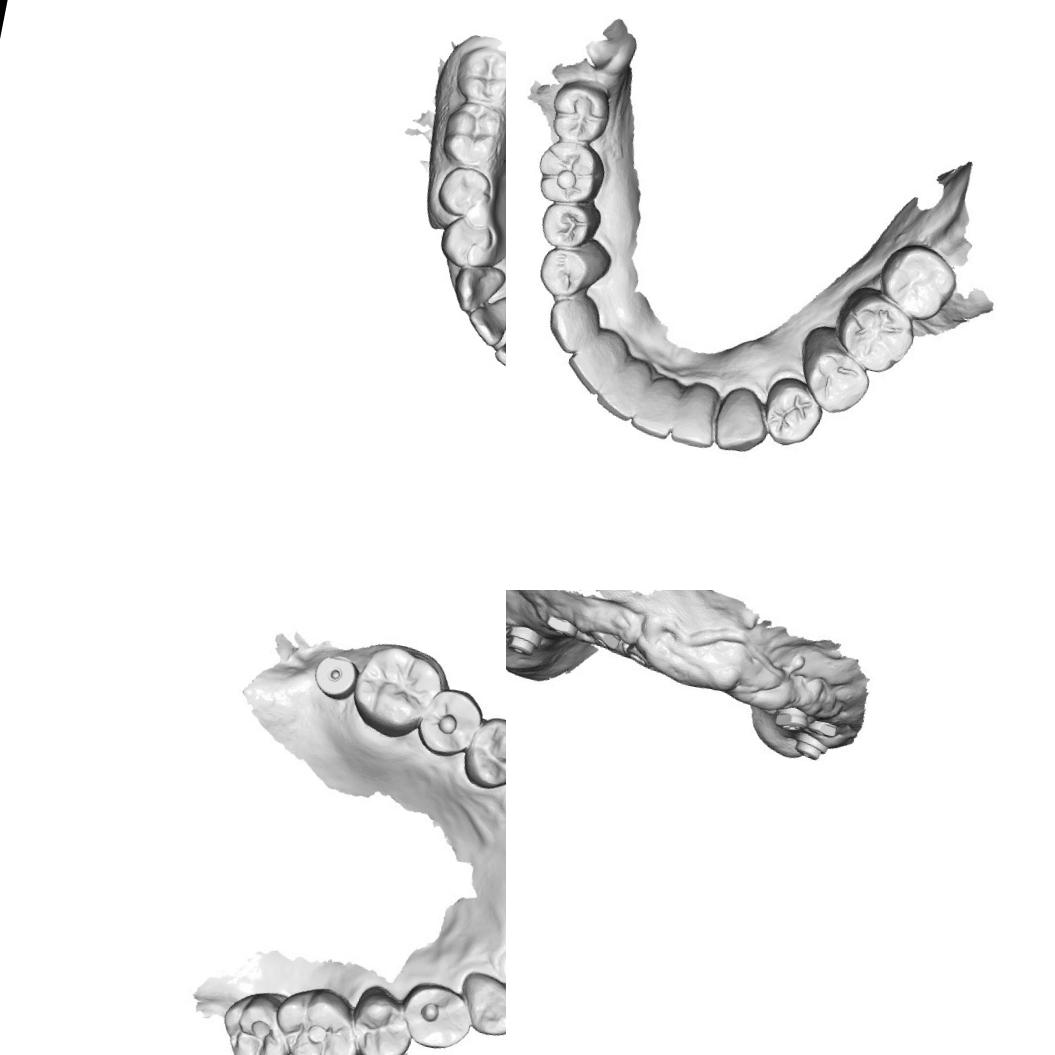canine: (708, 380, 772, 462), (540, 288, 606, 358), (447, 258, 506, 321), (457, 967, 506, 1041)
implant: (309, 646, 364, 707), (506, 622, 544, 659), (790, 730, 830, 763), (772, 704, 811, 734), (542, 613, 581, 641), (585, 625, 622, 653), (622, 640, 656, 670), (805, 717, 839, 739)
incisor: (561, 322, 637, 402), (590, 352, 650, 425), (666, 376, 725, 450), (627, 368, 684, 444), (462, 286, 506, 350), (490, 314, 506, 375)
molar: (828, 280, 919, 382), (351, 644, 442, 736), (873, 236, 960, 326), (271, 984, 364, 1055), (541, 72, 618, 150), (530, 135, 609, 211), (217, 986, 299, 1055), (438, 96, 506, 171), (449, 39, 506, 109)
premolar: (401, 979, 476, 1051), (803, 345, 876, 417), (418, 686, 486, 760), (760, 374, 826, 448), (350, 987, 412, 1055), (438, 208, 498, 272), (534, 241, 593, 302), (461, 713, 506, 790), (538, 196, 598, 253), (436, 157, 494, 215)
